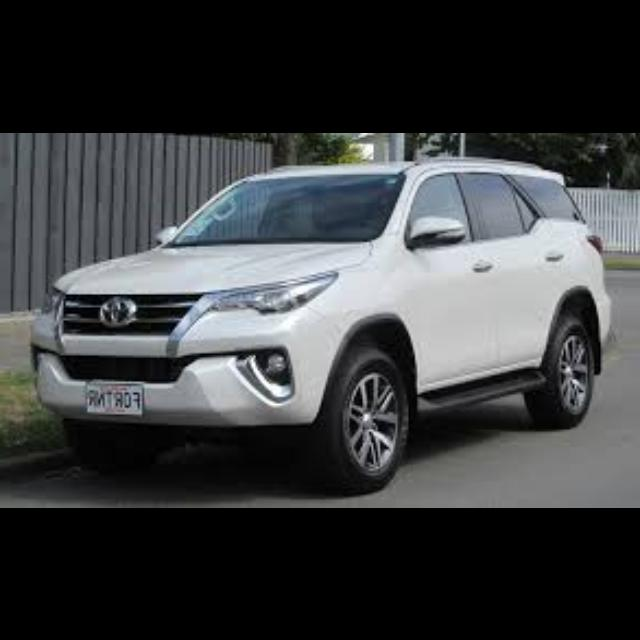number-plate: (86, 379, 147, 414)
vehicles: (35, 156, 616, 495)
